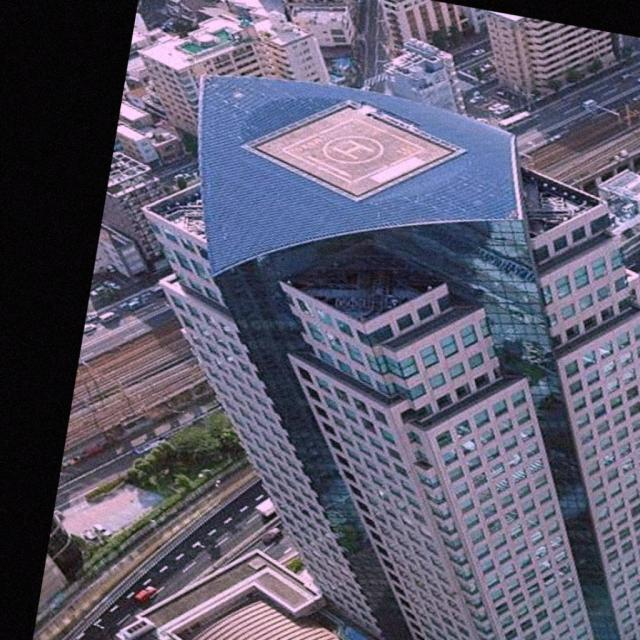helipad: (319, 132, 385, 164)
